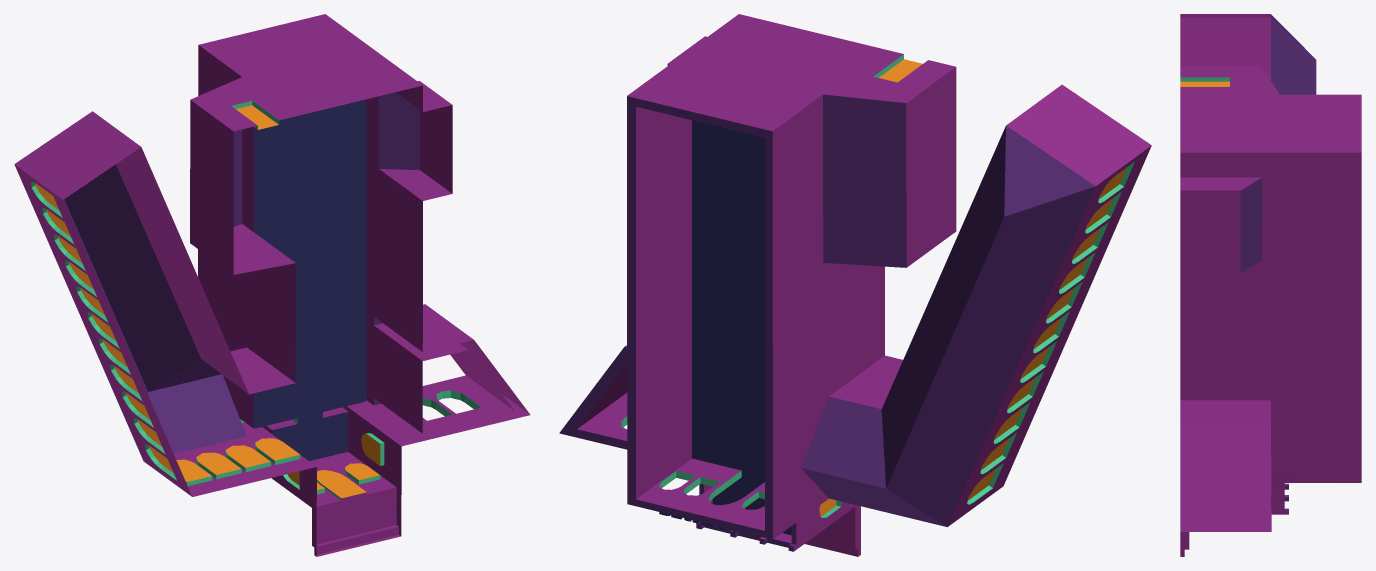
The model's file is Resursa Tier 2.fbx.
The picture shows the model from 3 angles, left to right: view 1: azimuth 30°, elevation 25°; view 2: azimuth 150°, elevation 25°; view 3: azimuth 270°, elevation 25°; orthographic projection. The views are drawn at different scales.
Parts seen in each view (by area): view 1: Resursa; view 2: Resursa; view 3: Resursa.
Boxes of the visible parts, x1=… form: Resursa: x1=14, y1=14, x2=530, y2=556; Resursa: x1=559, y1=14, x2=1151, y2=556; Resursa: x1=1180, y1=14, x2=1361, y2=556.
Bounding box in the file's own units: 4.39 × 4.07 × 1.59.
